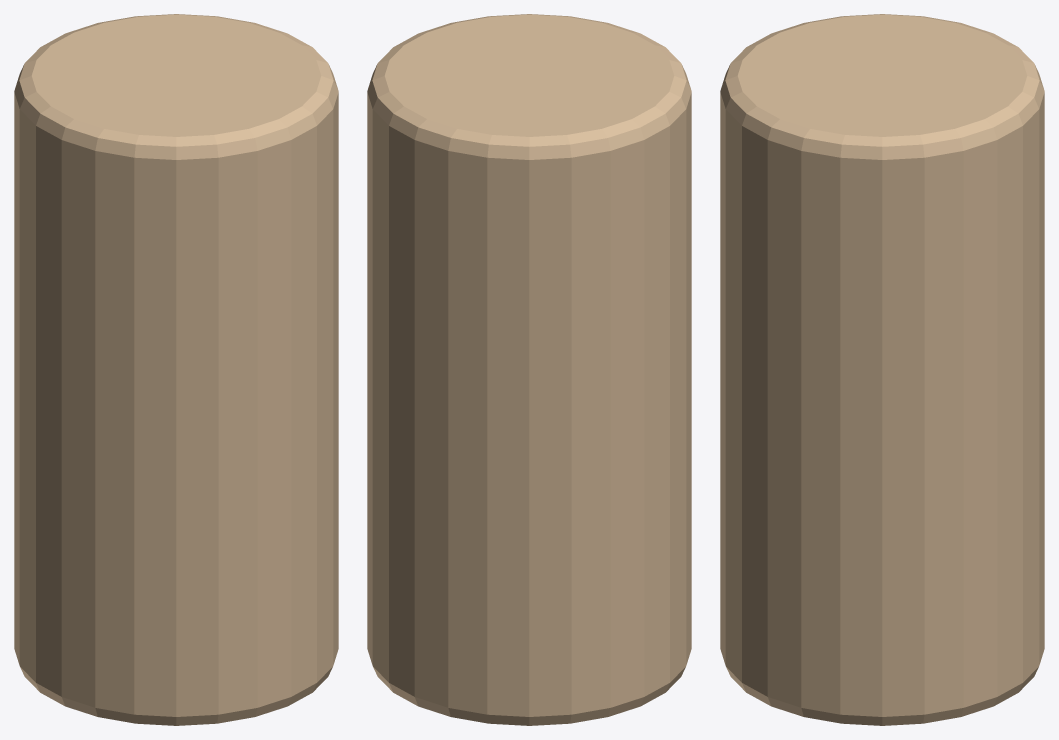
Rendered from toy_pillar.glb.
3 renders of one model, left to right at view 1: azimuth 30°, elevation 25°; view 2: azimuth 150°, elevation 25°; view 3: azimuth 270°, elevation 25°, orthographic.
Visible parts, largest first — view 1: toy_pillar; view 2: toy_pillar; view 3: toy_pillar.
Part boxes in pixels (bbox=[...]): toy_pillar: bbox=[14, 14, 338, 725]; toy_pillar: bbox=[367, 14, 691, 725]; toy_pillar: bbox=[720, 14, 1044, 725].
Bounding box in the file's own units: 0.03 × 0.06 × 0.03.
